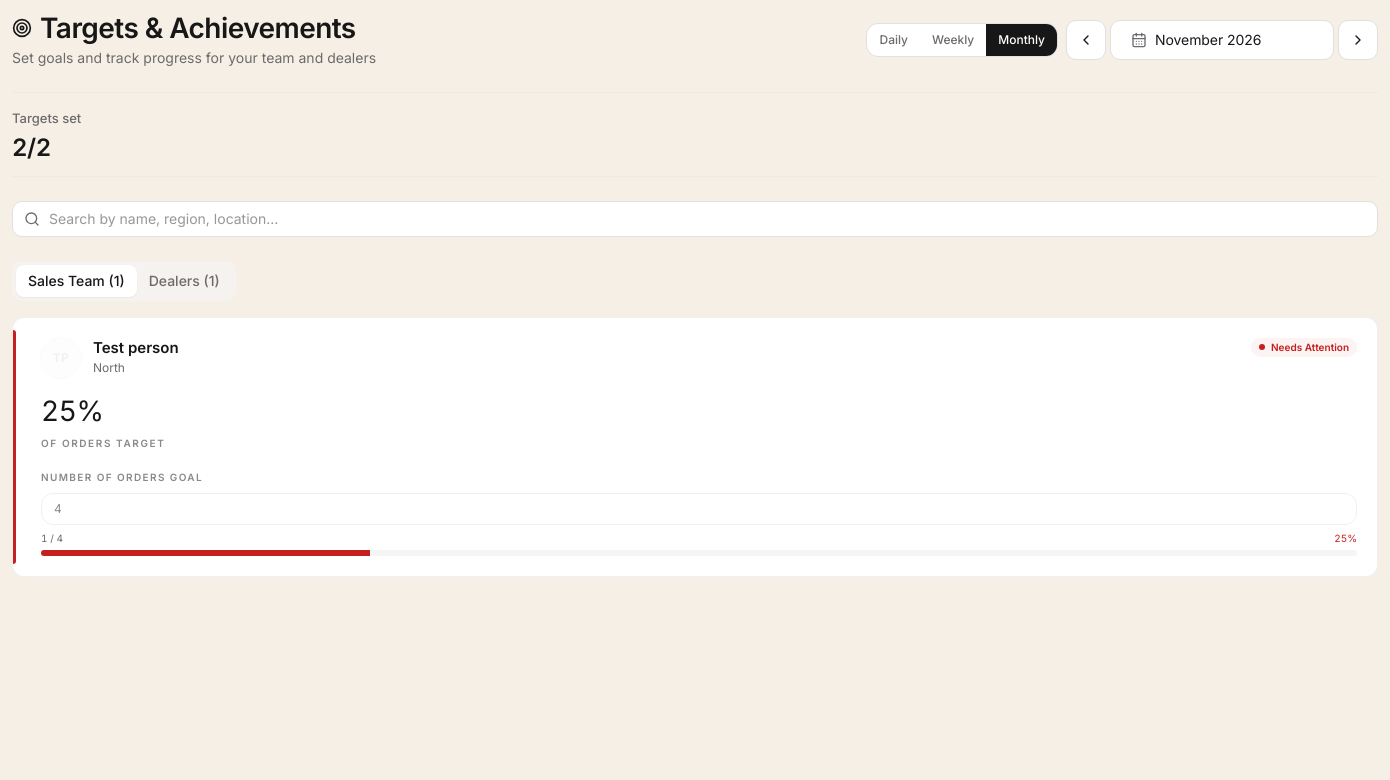
Test: Targets financial access › omits money and revenue-derived progress from both team and dealer targets without see_money
The width and height of the screenshot is (1390, 780).
Expected: the field with placeholder "e.g. 20" is disabled, [41,493,1357,525]
Press the mouse on the tab "Dealers (1)" at (184, 281), box [137,265,232,297]
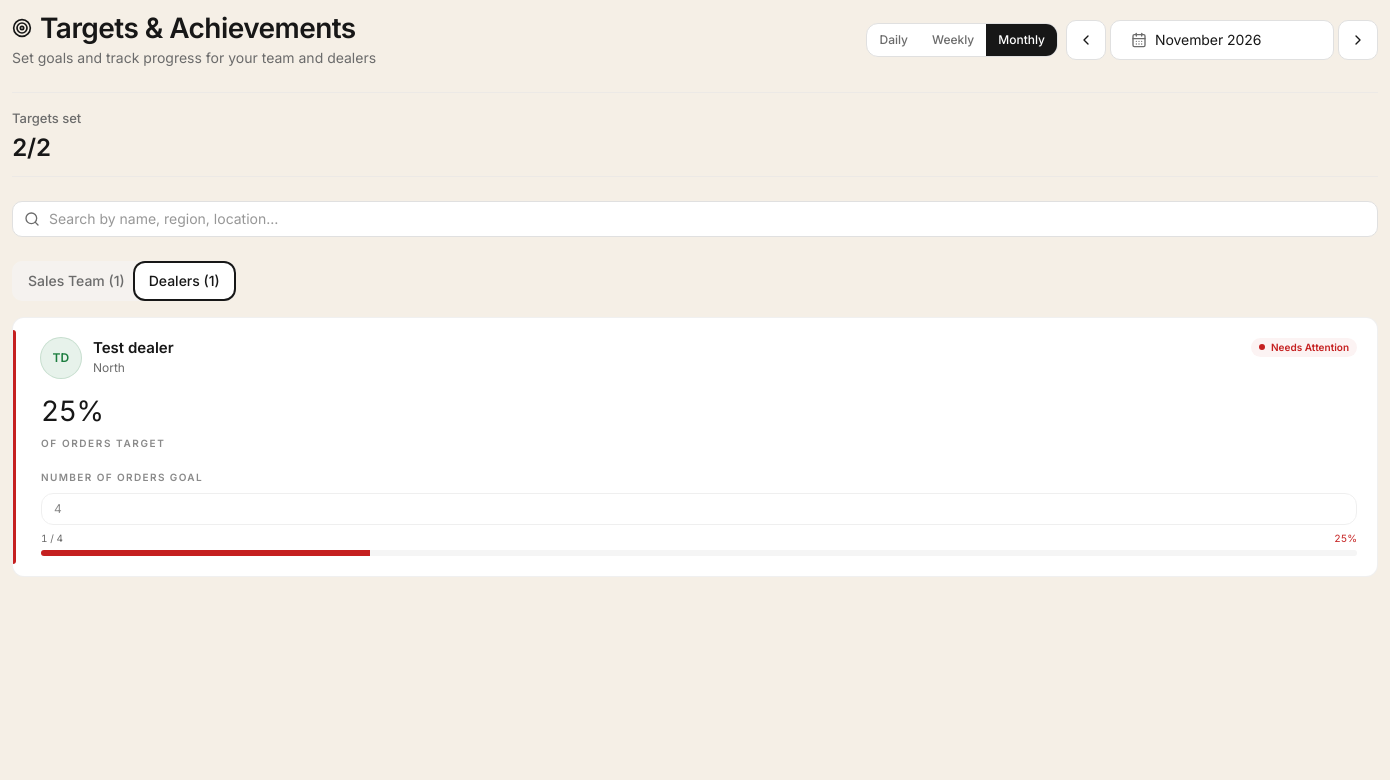
Expected: the text "25%" is shown, [41,390,104,432]
Now the heading "Test dealer" is shown, box [93,338,174,357]
